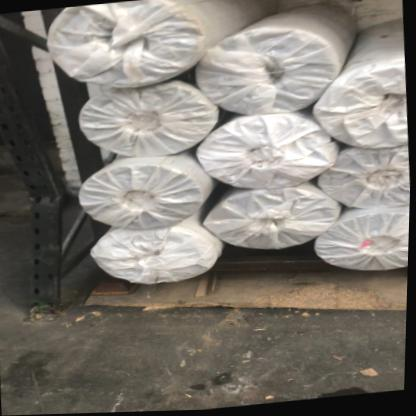vertical_damage: (3, 131, 81, 245)
